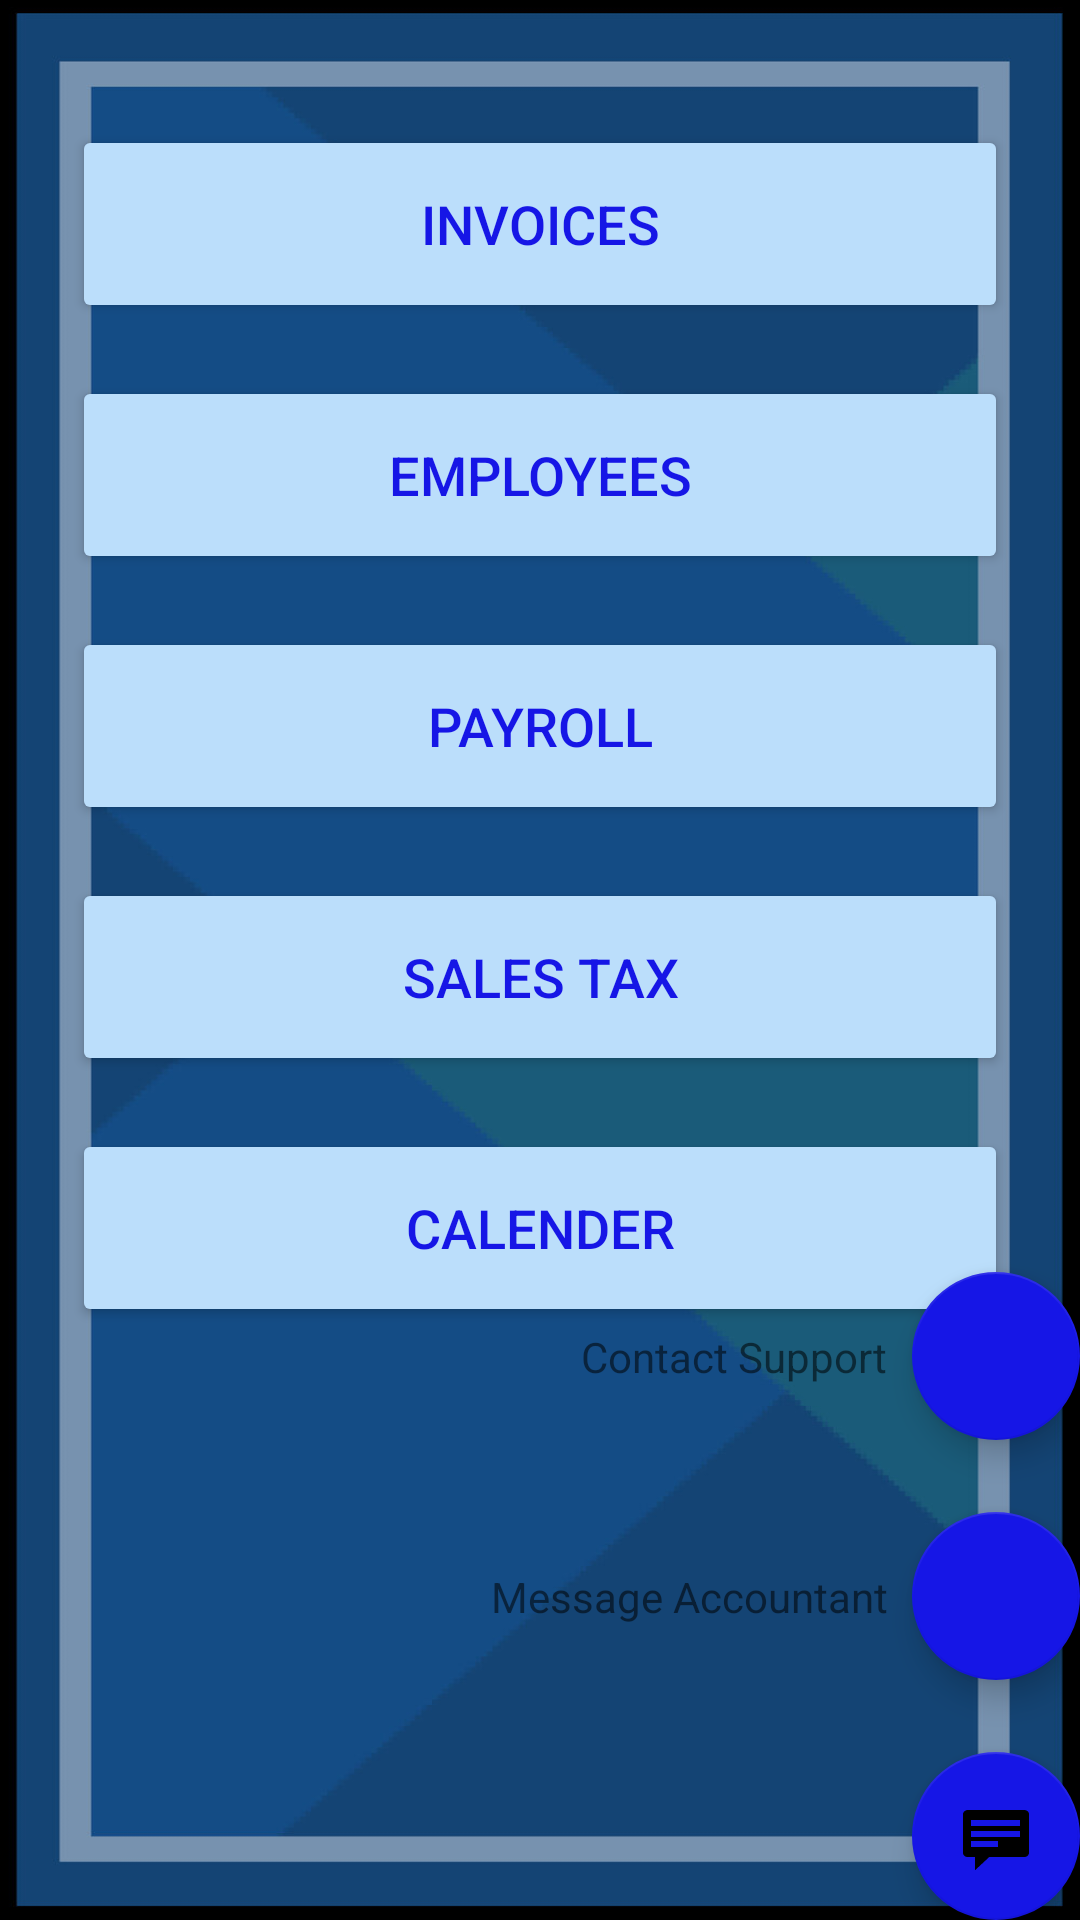

Icons on this 1080x1920 Android screen, each with the point to tap as (x,y):
icon of a text message: (996,1836)
